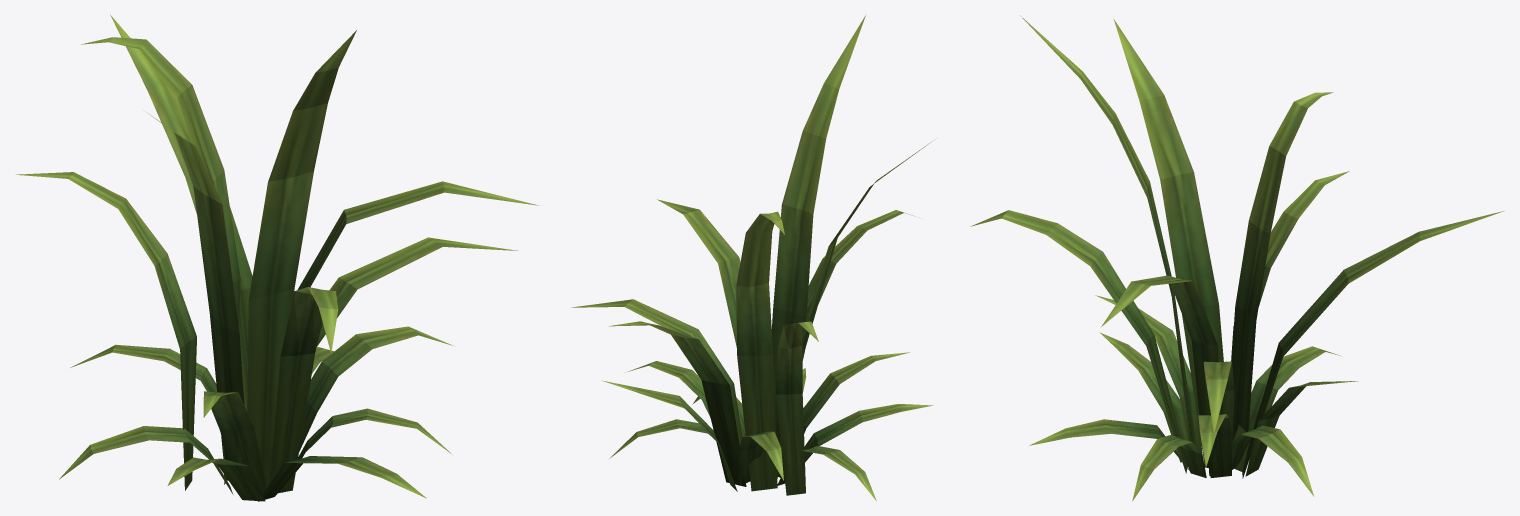
Rendered from FB1_changyechao01.FBX.
3 renders of one model, left to right at view 1: azimuth 30°, elevation 25°; view 2: azimuth 150°, elevation 25°; view 3: azimuth 270°, elevation 25°, orthographic. The views are drawn at different scales.
Parts seen in each view (by area): view 1: FB1_changyechao01_001; view 2: FB1_changyechao01_001; view 3: FB1_changyechao01_001.
Part boxes in pixels (x1,y1,x2,y2): FB1_changyechao01_001: (16, 14, 538, 501); FB1_changyechao01_001: (571, 15, 933, 501); FB1_changyechao01_001: (970, 15, 1503, 501).
Size of the model in its own units: 33058 by 39406 by 42745.
1 material, 1 textured.
